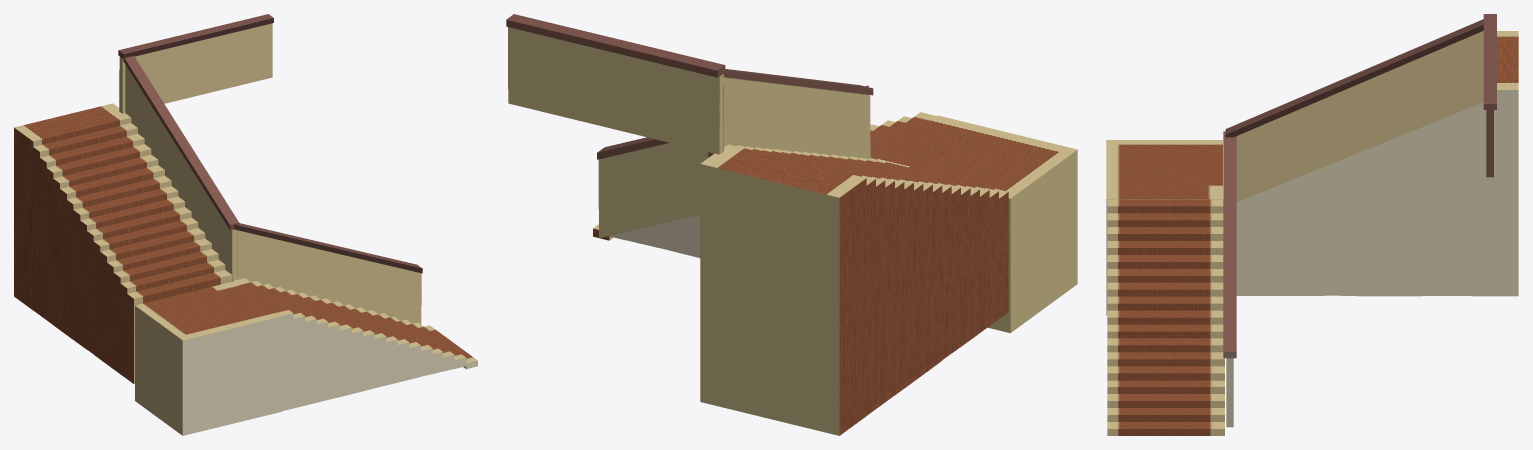
Rendered from Stairs V3.fbx.
The picture shows the model from 3 angles, left to right: view 1: azimuth 30°, elevation 25°; view 2: azimuth 150°, elevation 25°; view 3: azimuth 270°, elevation 25°; orthographic projection. The views are drawn at different scales.
Visible parts, largest first — view 1: Stairsssss; view 2: Stairsssss; view 3: Stairsssss.
Boxes of the visible parts, x1,y1,x2,y2 form: Stairsssss: [14, 14, 477, 435]; Stairsssss: [506, 14, 1077, 435]; Stairsssss: [1106, 14, 1518, 435].
Bounding box in the file's own units: 817 × 656 × 809.
5 materials, 2 textured.
